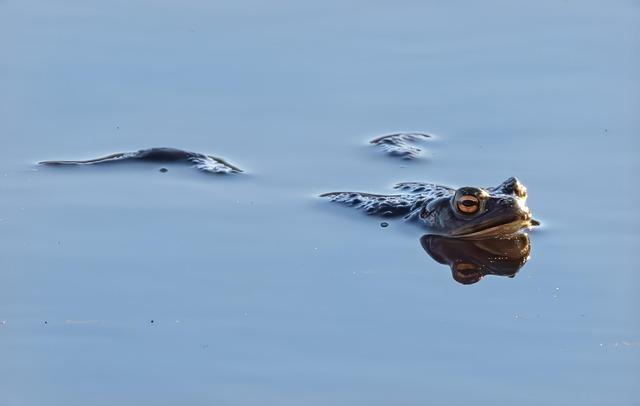Non_Gorille: (48, 67, 619, 310)
